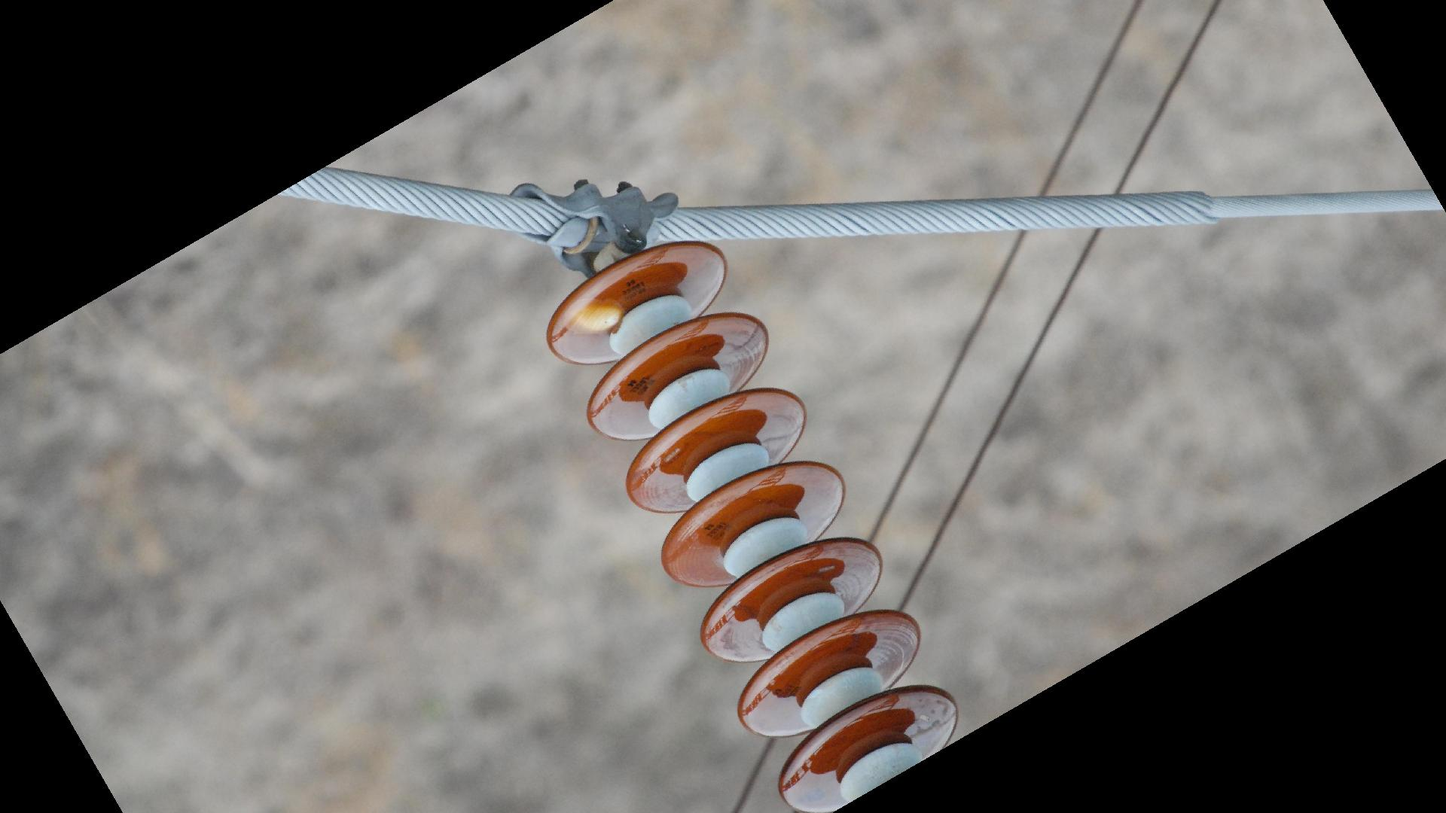insulator: (542, 236, 966, 813)
insulator_flashover: (560, 294, 627, 336)
